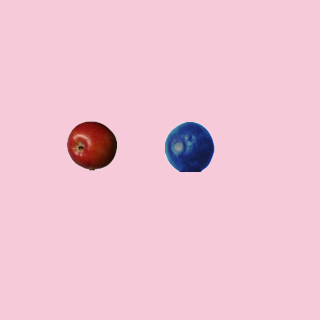Apple Braeburn: (66, 120, 116, 170)
Huckleberry: (164, 121, 214, 171)
